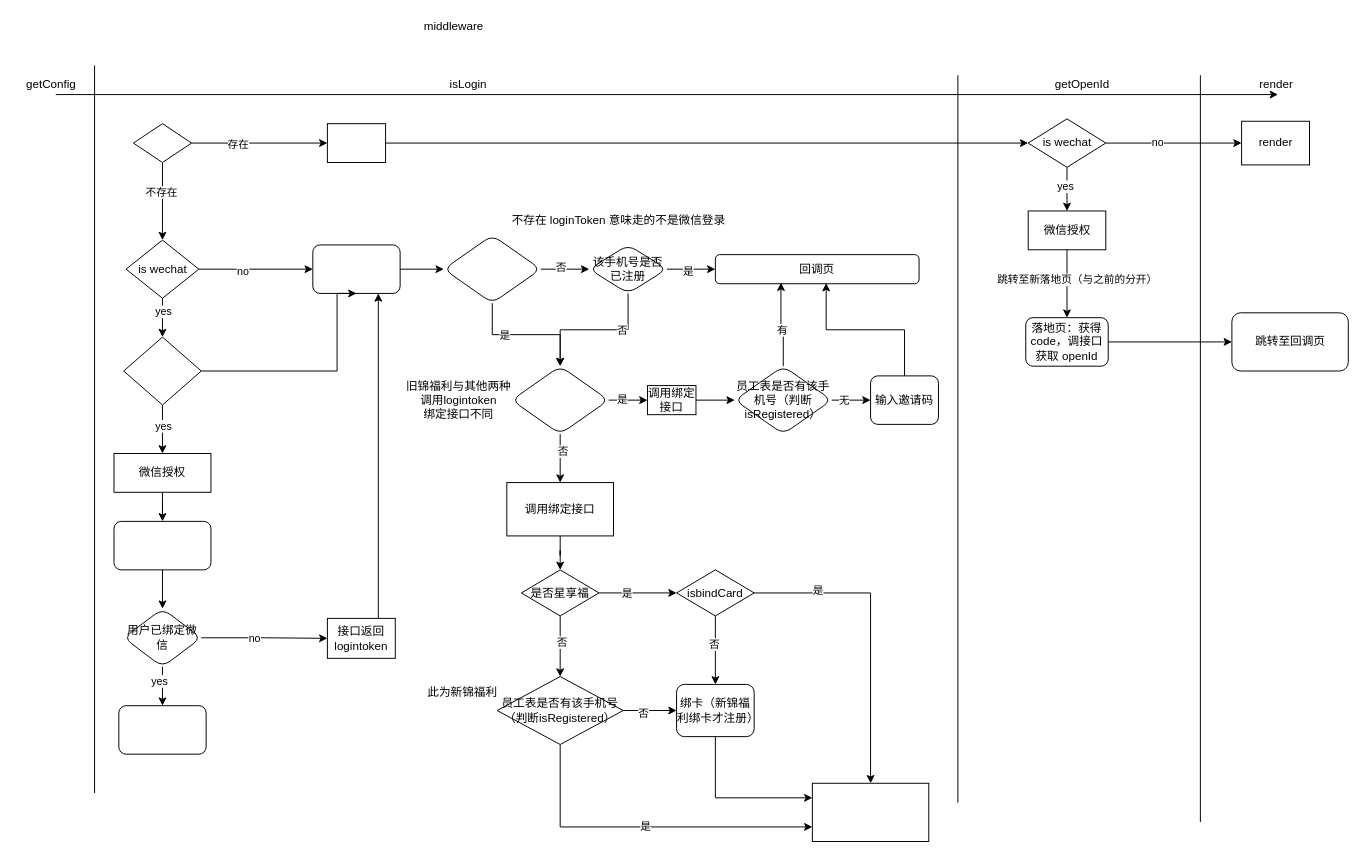
Image size: 1365x858. Some labels were removed from this diagram. Each missing label, with the centre of its shape:
"next()" belongs at [356,142].
"token" belongs at [162,142].
"是否开启微信自动登录" belongs at [162,370].
"是否旧锦福利" belongs at [560,399].
"登录页（输入手机号验证码）" belongs at [356,268].
"落地页：获取 code，调登录接口" belongs at [162,545].
"路由参数是否存在 loginToken" belongs at [492,268].
"跳转回调页" belongs at [162,729].
"首页" belongs at [870,811].
